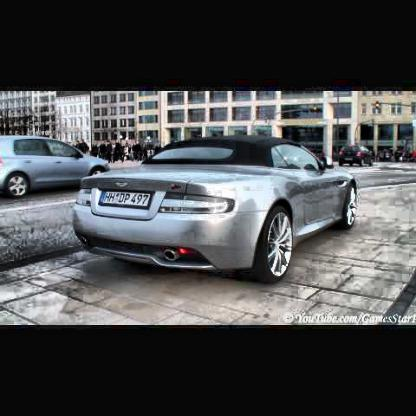Aston Martin Virage Convertible 2012: (72, 136, 361, 285)
